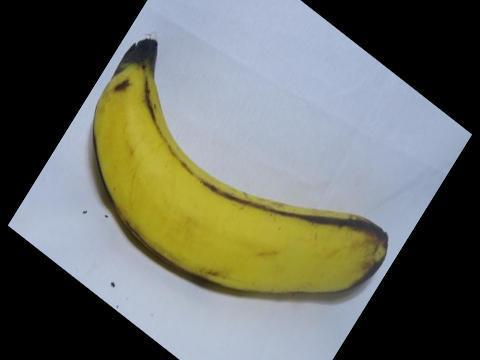ripe: (84, 29, 389, 311)
